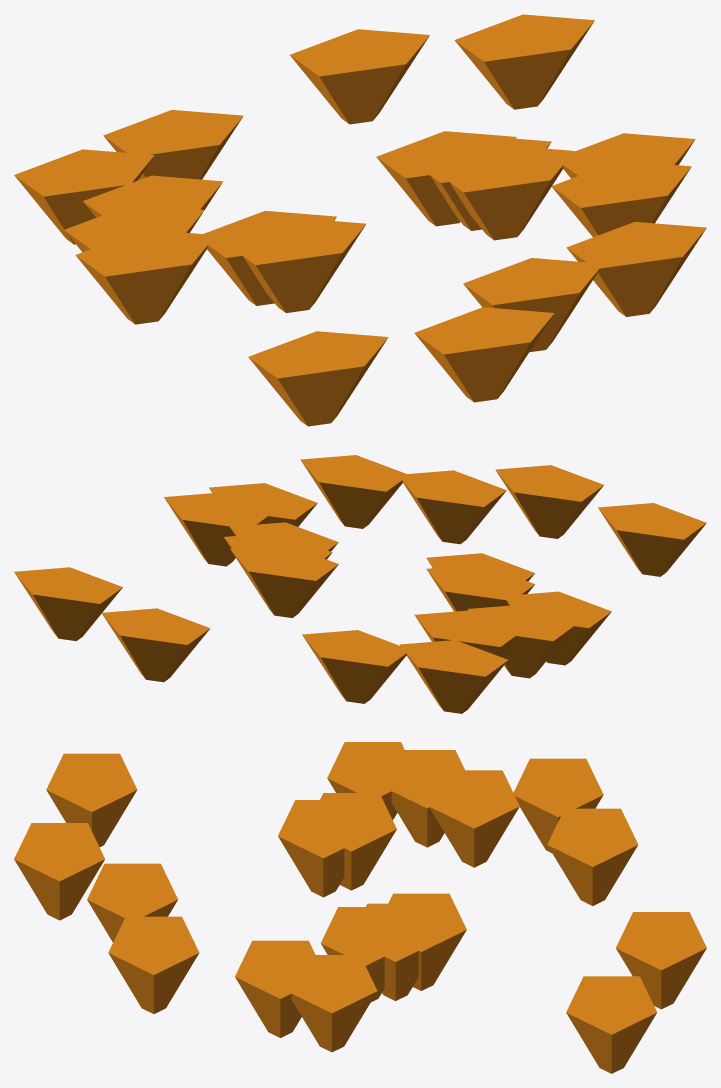
File: marigold_raft.glb
3 renders of one model, top to bottom at view 1: azimuth 30°, elevation 25°; view 2: azimuth 150°, elevation 25°; view 3: azimuth 270°, elevation 25°, orthographic. The views are drawn at different scales.
Visible parts, largest first — view 1: Flor.007, Flor.015, Flor.011, Flor.003, Flor.010, Flor.017, Flor.012, Flor.006, Flor.014, Flor.002, Flor, Flor.005 (+6 smaller); view 2: Flor.011, Flor.007, Flor.015, Flor.003, Flor.002, Flor.006, Flor.010, Flor.014, Flor.009, Flor.013, Flor.016, Flor.017 (+6 smaller); view 3: Flor.003, Flor.006, Flor.001, Flor.015, Flor.010, Flor.011, Flor.005, Flor.007, Flor.013, Flor.004, Flor.009, Flor.014 (+6 smaller).
Part boxes in pixels (x1,y1,x2,y2): Flor.007: (248,331,388,426); Flor.015: (414,307,554,402); Flor.011: (290,29,429,124); Flor.003: (454,14,594,109); Flor.010: (566,222,706,316); Flor.017: (75,230,215,324); Flor.012: (239,221,366,312); Flor.006: (103,110,243,179); Flor.014: (14,149,154,244); Flor.002: (463,258,598,352); Flor: (449,148,574,240); Flor.005: (551,164,691,237); Flor.011: (102,608,210,682); Flor.007: (598,503,706,576); Flor.015: (495,465,603,538); Flor.003: (14,567,122,641); Flor.002: (398,470,506,544); Flor.006: (302,630,410,703); Flor.010: (300,455,408,528); Flor.014: (399,640,507,713); Flor.009: (467,604,575,678); Flor.013: (164,493,268,566); Flor.016: (230,548,338,617); Flor.017: (506,591,611,665); Flor.003: (566,976,656,1073); Flor.006: (547,808,638,905); Flor.001: (429,770,519,867); Flor.015: (14,823,104,920); Flor.010: (108,916,199,1013); Flor.011: (616,912,706,1009); Flor.005: (235,940,325,1037); Flor.007: (46,753,137,847); Flor.013: (291,955,377,1052); Flor.004: (306,793,396,890); Flor.009: (382,750,472,847); Flor.014: (512,758,603,852).
Size of the model in its own units: 0.7 by 0.07 by 0.7.
